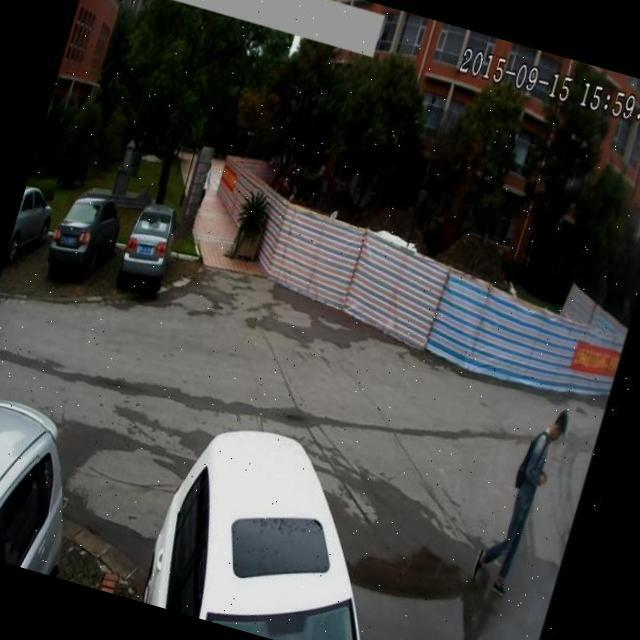person: (464, 390, 577, 608)
